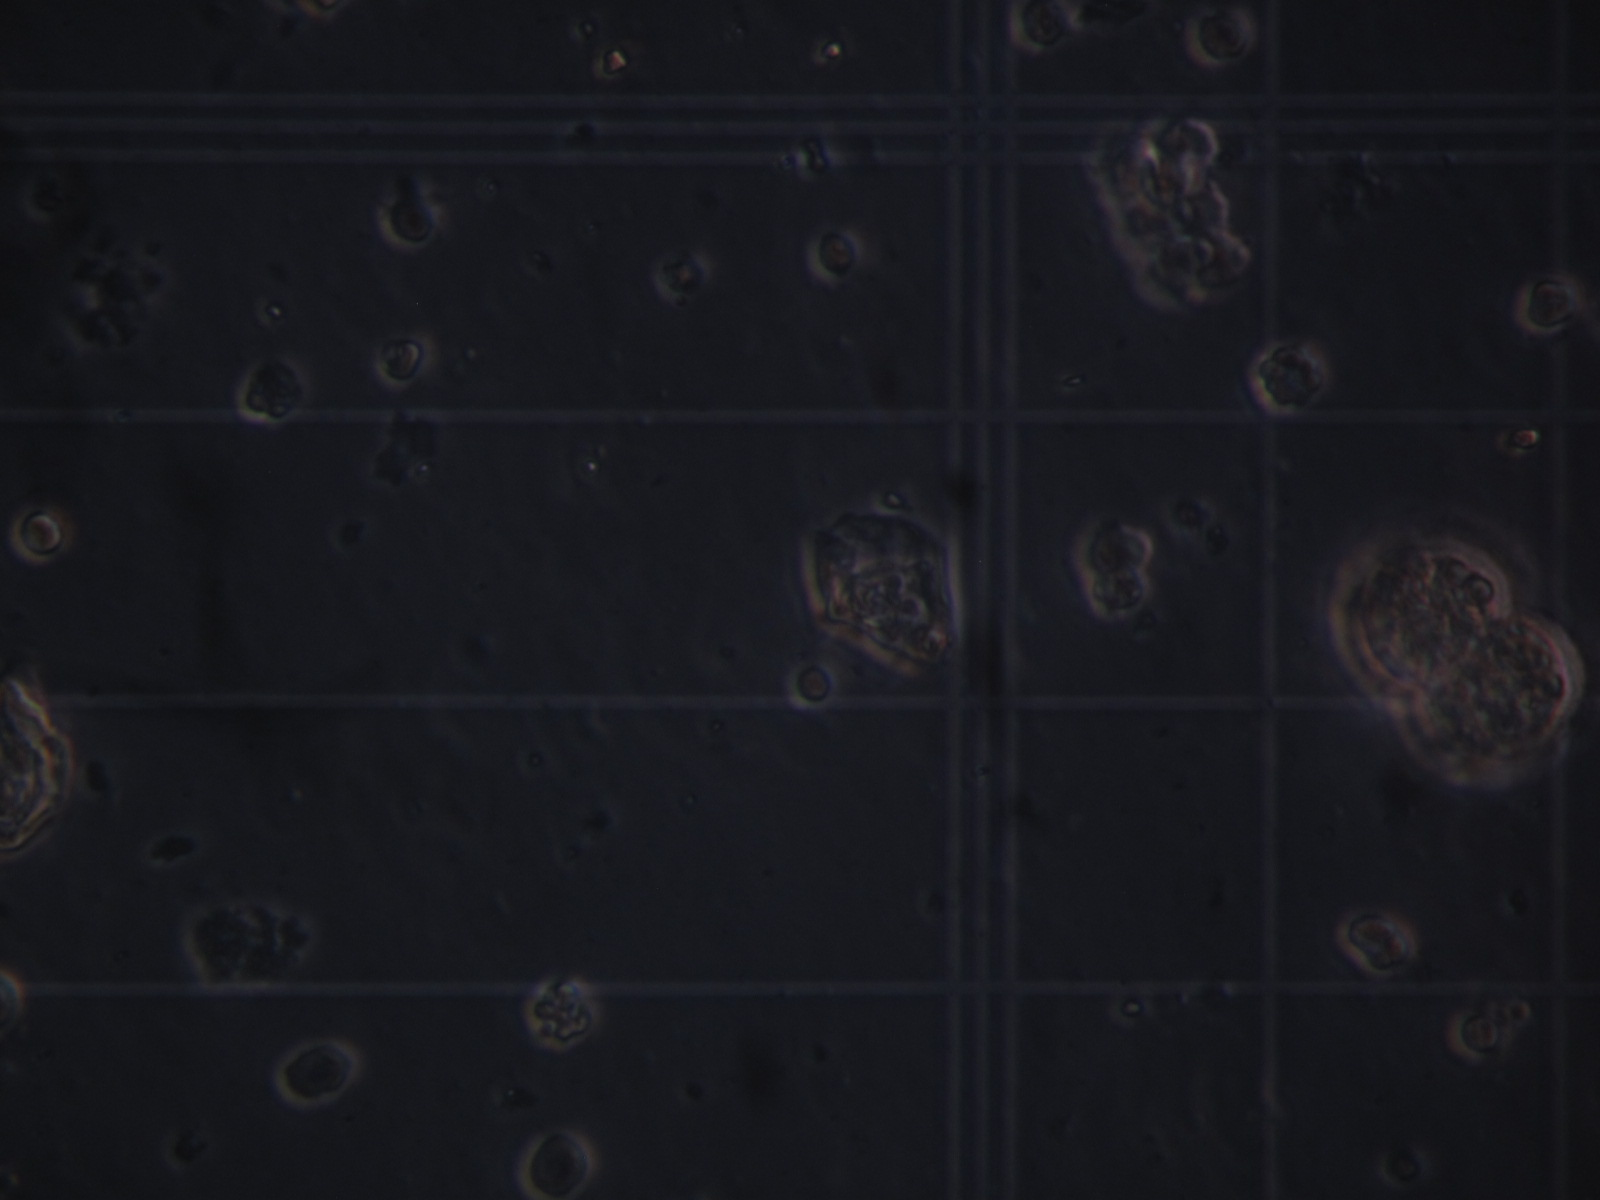hemo: (272, 1037, 362, 1113), (515, 1128, 598, 1200), (1335, 905, 1419, 977), (237, 355, 312, 429), (1257, 342, 1329, 413), (527, 976, 596, 1049), (1073, 522, 1154, 576), (1186, 5, 1255, 68), (375, 190, 443, 253), (1516, 274, 1581, 337), (10, 504, 74, 566), (1082, 568, 1154, 621), (1008, 1, 1078, 53), (373, 332, 435, 389), (806, 226, 863, 289), (1157, 113, 1225, 165), (785, 655, 839, 713), (1450, 1007, 1503, 1064), (651, 251, 709, 300)
